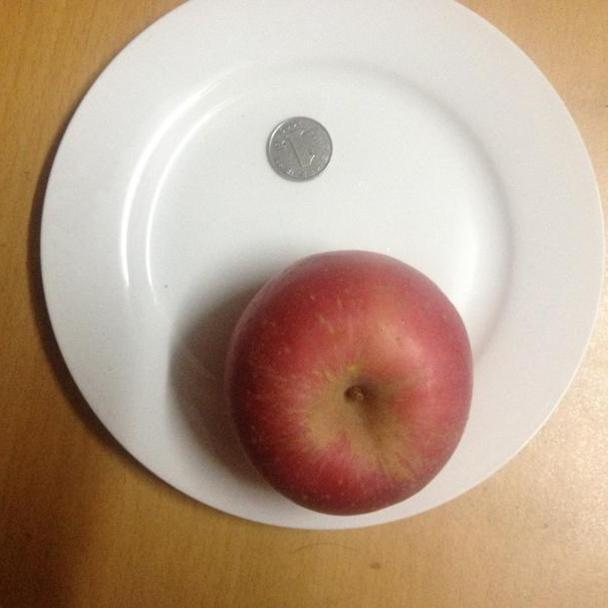apple: (222, 249, 473, 517)
